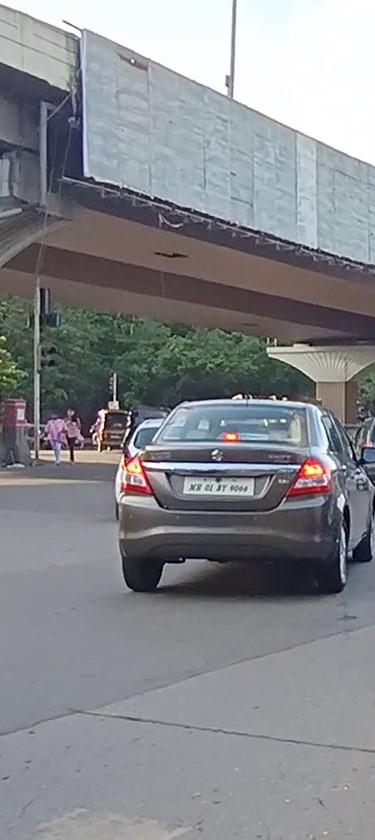MH01BT9066: (182, 475, 254, 495)
